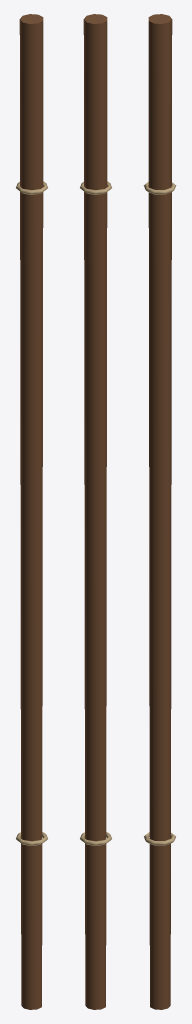
Rendered from stone_herder.glb.
3 renders of one model, left to right at view 1: azimuth 30°, elevation 25°; view 2: azimuth 150°, elevation 25°; view 3: azimuth 330°, elevation 25°, orthographic.
Parts seen in each view (by area): view 1: part_0, part_1; view 2: part_0, part_1; view 3: part_0, part_1.
Boxes of the visible parts, box(x1,y1,x2,y2) form: part_0: box(19, 14, 43, 1009); part_1: box(16, 181, 47, 845); part_0: box(83, 14, 107, 1009); part_1: box(80, 181, 111, 845); part_0: box(148, 14, 172, 1009); part_1: box(143, 182, 176, 845).
Bounding box in the file's own units: 0.0369 × 1.25 × 0.0374.
